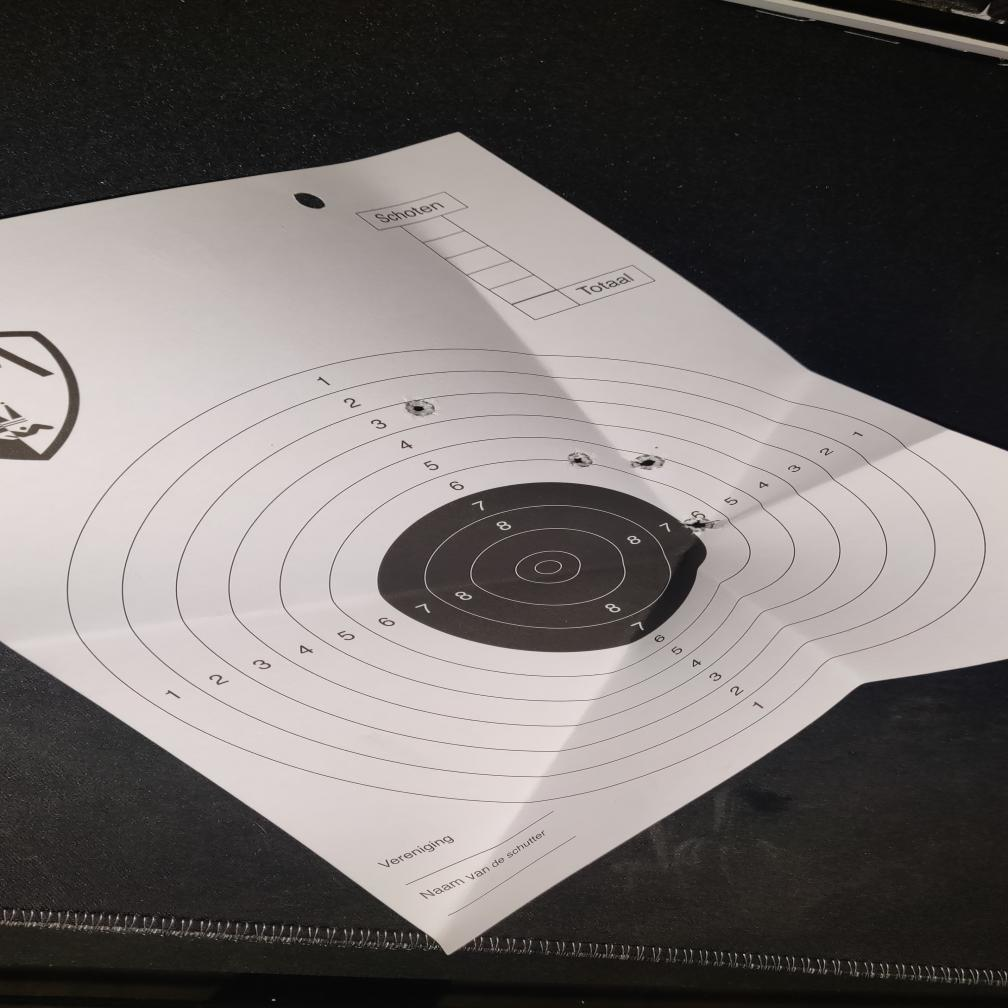3: (404, 400, 436, 417)
5: (626, 453, 670, 471)
6: (568, 451, 596, 468)
7: (675, 516, 725, 536)
Target: (62, 344, 996, 808)
black_contour: (376, 481, 708, 653)
